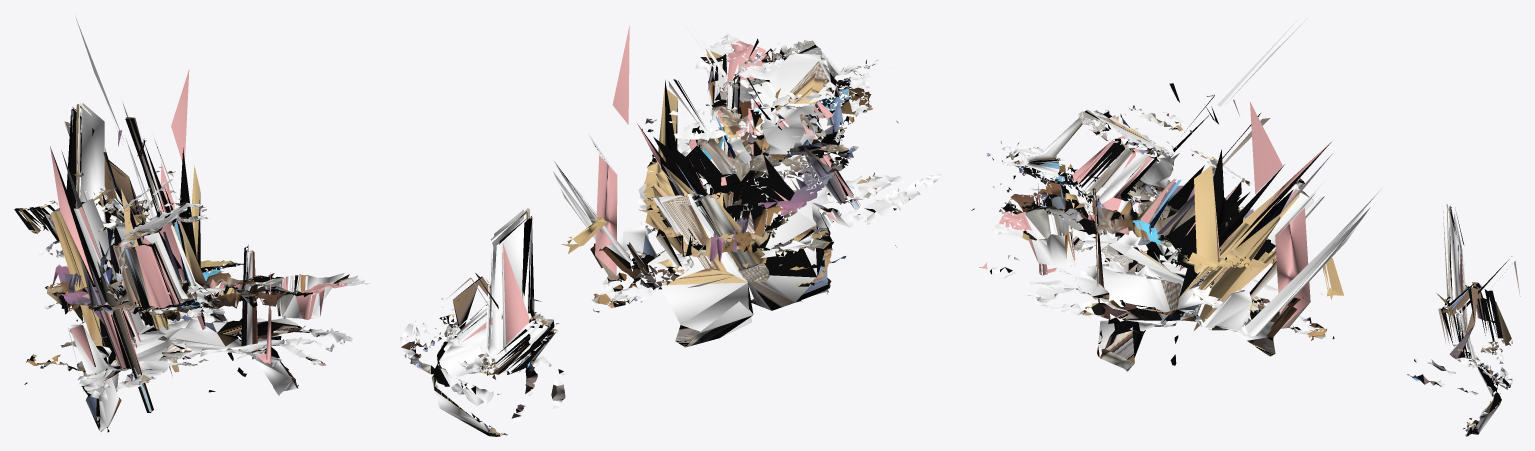
The model's file is yun3.glb.
The picture shows the model from 3 angles, left to right: view 1: azimuth 30°, elevation 25°; view 2: azimuth 150°, elevation 25°; view 3: azimuth 270°, elevation 25°; orthographic projection. The views are drawn at different scales.
Visible parts, largest first — view 1: myModelDynamic.001; view 2: myModelDynamic.001; view 3: myModelDynamic.001.
Boxes of the visible parts, x1=… form: myModelDynamic.001: x1=14, y1=17, x2=370, y2=432; myModelDynamic.001: x1=399, y1=16, x2=941, y2=436; myModelDynamic.001: x1=971, y1=18, x2=1520, y2=436.
Size of the model in its own units: 4.74 by 5.51 by 7.51.
4 materials, 2 textured.
